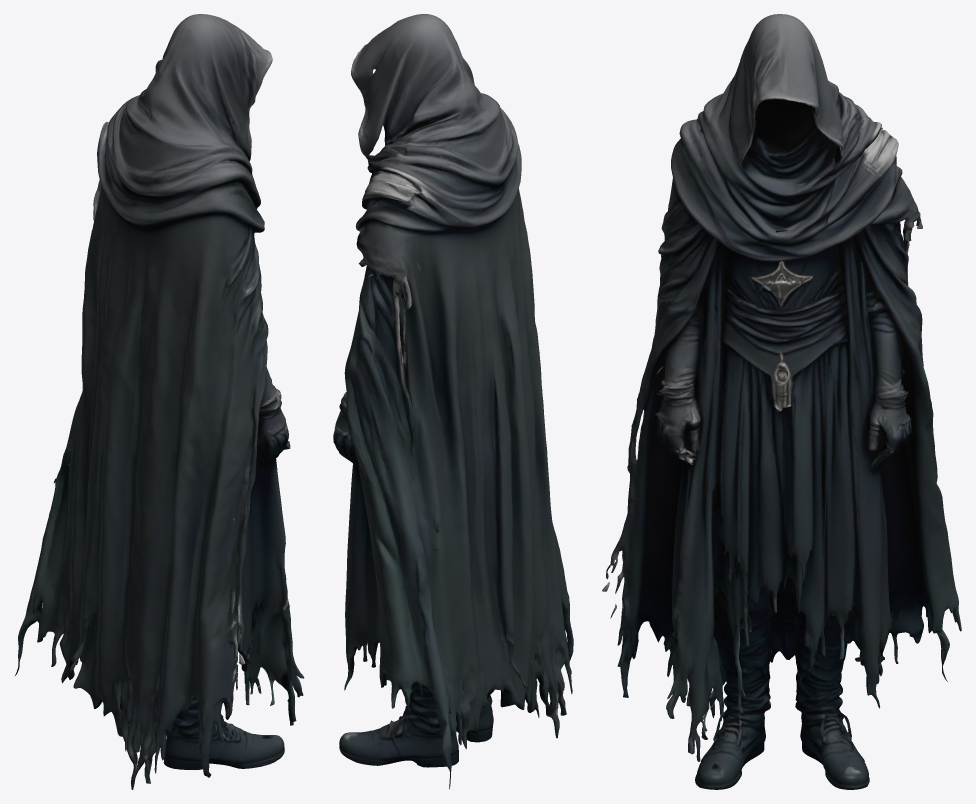
The model's file is brujo.fbx.
The picture shows the model from 3 angles, left to right: view 1: azimuth 30°, elevation 25°; view 2: azimuth 150°, elevation 25°; view 3: azimuth 270°, elevation 25°; orthographic projection. The views are drawn at different scales.
Visible parts, largest first — view 1: tripo_node_ab0cae6f; view 2: tripo_node_ab0cae6f; view 3: tripo_node_ab0cae6f.
Part boxes in pixels (bbox=[...]): tripo_node_ab0cae6f: bbox=[15, 14, 304, 789]; tripo_node_ab0cae6f: bbox=[333, 14, 573, 789]; tripo_node_ab0cae6f: bbox=[602, 14, 961, 789].
Bounding box in the file's own units: 0.262 × 1 × 0.4326.
1 material, 1 textured.
